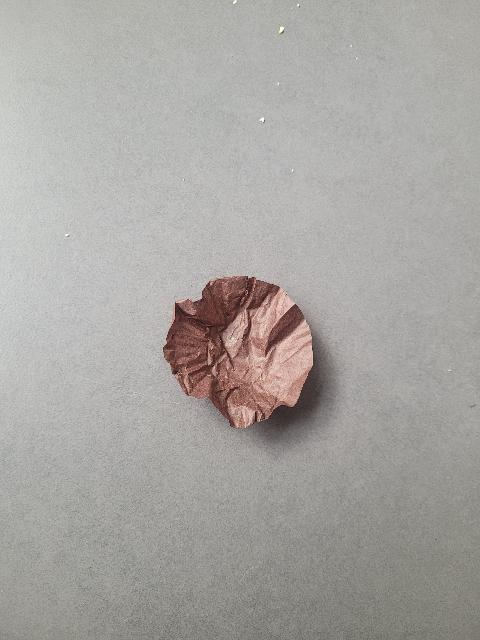Kagit: (155, 252, 344, 458)
